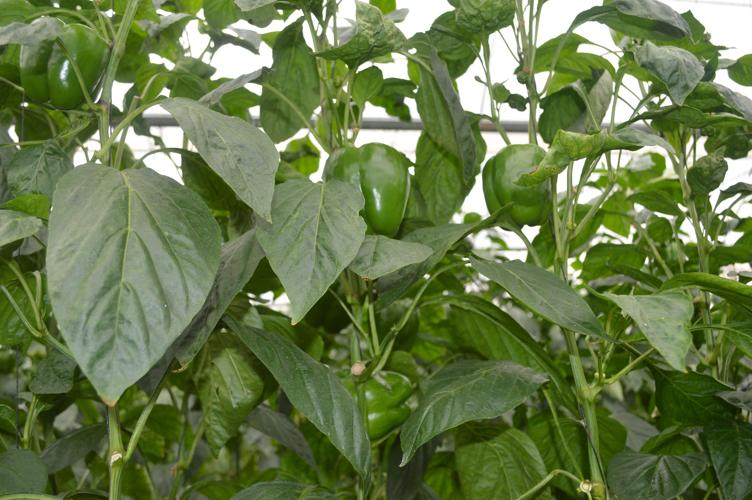BellPepper: (13, 16, 101, 109), (318, 145, 406, 233), (476, 144, 551, 226), (335, 369, 411, 433)
